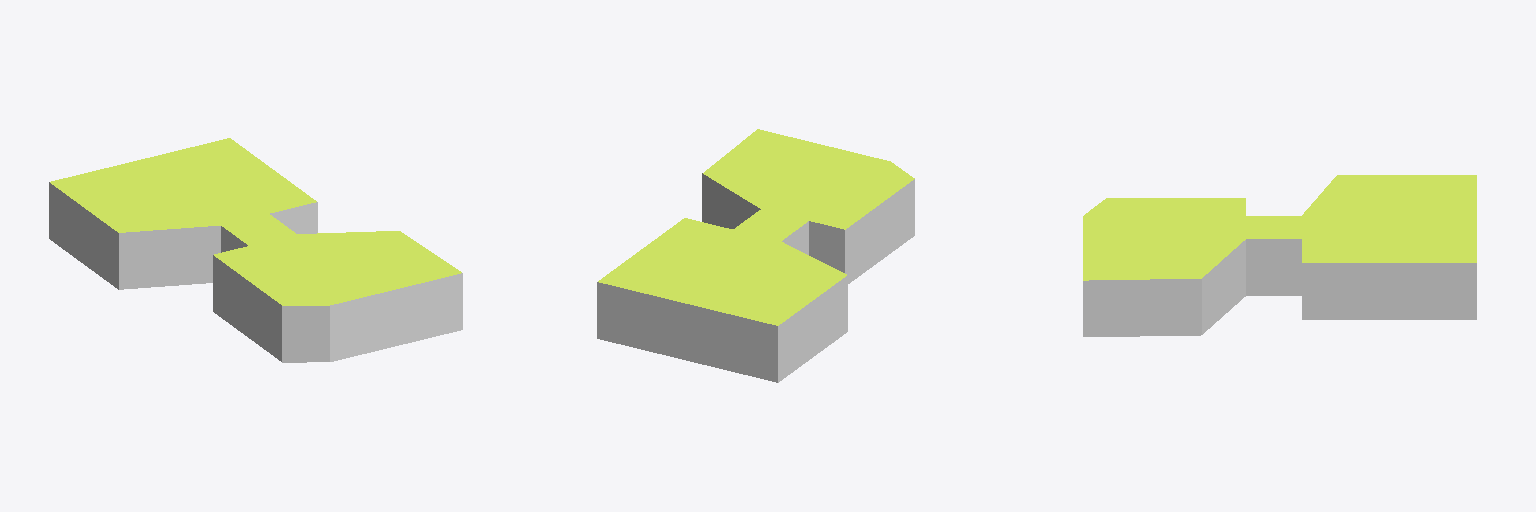
The model's file is random.obj.
3 renders of one model, left to right at view 1: azimuth 30°, elevation 25°; view 2: azimuth 150°, elevation 25°; view 3: azimuth 270°, elevation 25°, orthographic.
Parts seen in each view (by area): view 1: Cube; view 2: Cube; view 3: Cube.
Part boxes in pixels (x1,y1,x2,y2): Cube: (49,138,462,362); Cube: (597,129,914,382); Cube: (1083,175,1476,336).
Bounding box in the file's own units: 18 × 4.5 × 28.25.